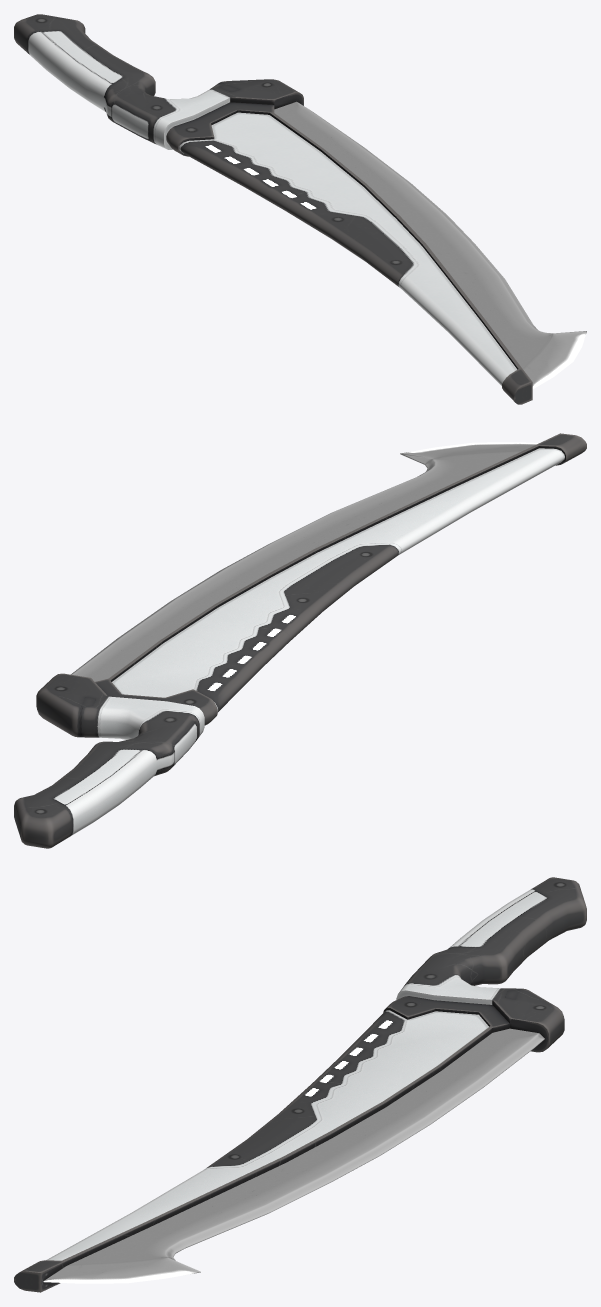
The model's file is MeleeMachete02_1.FBX.
3 renders of one model, top to bottom at view 1: azimuth 30°, elevation 25°; view 2: azimuth 150°, elevation 25°; view 3: azimuth 330°, elevation 25°, orthographic. The views are drawn at different scales.
Visible parts, largest first — view 1: MeleeMachete02_1; view 2: MeleeMachete02_1; view 3: MeleeMachete02_1.
Boxes of the visible parts, x1,y1,x2,y2 form: MeleeMachete02_1: (14,14,586,404); MeleeMachete02_1: (14,433,586,848); MeleeMachete02_1: (14,877,586,1292).
Size of what is drawn, in the model's own units: 0.1564 by 0.0266 by 0.8845.
